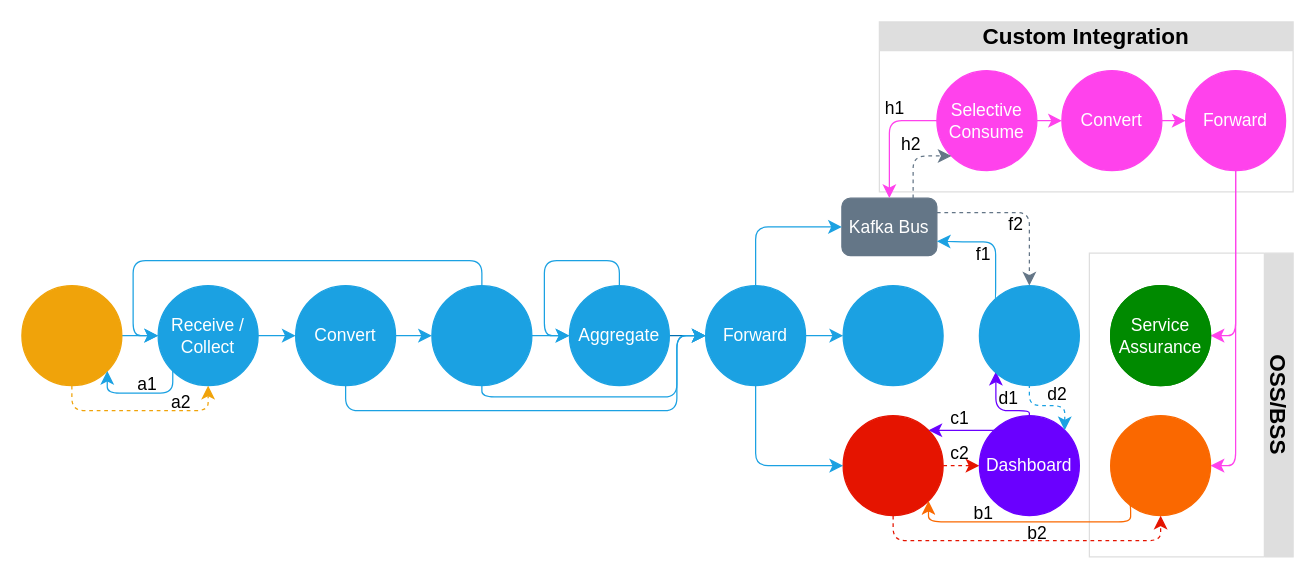
This 1315x579 diagram has some shape labels left out. Here are the shapes that lost their labels. From the top down, the centre of each, then its label:
(x=71, y=335): Source (e.g. OLT)
(x=481, y=335): De-Duplicate
(x=892, y=335): Archive
(x=1028, y=335): Roll-Up (TSDB)
(x=892, y=465): Alarms
(x=1160, y=465): Network Monitoring
